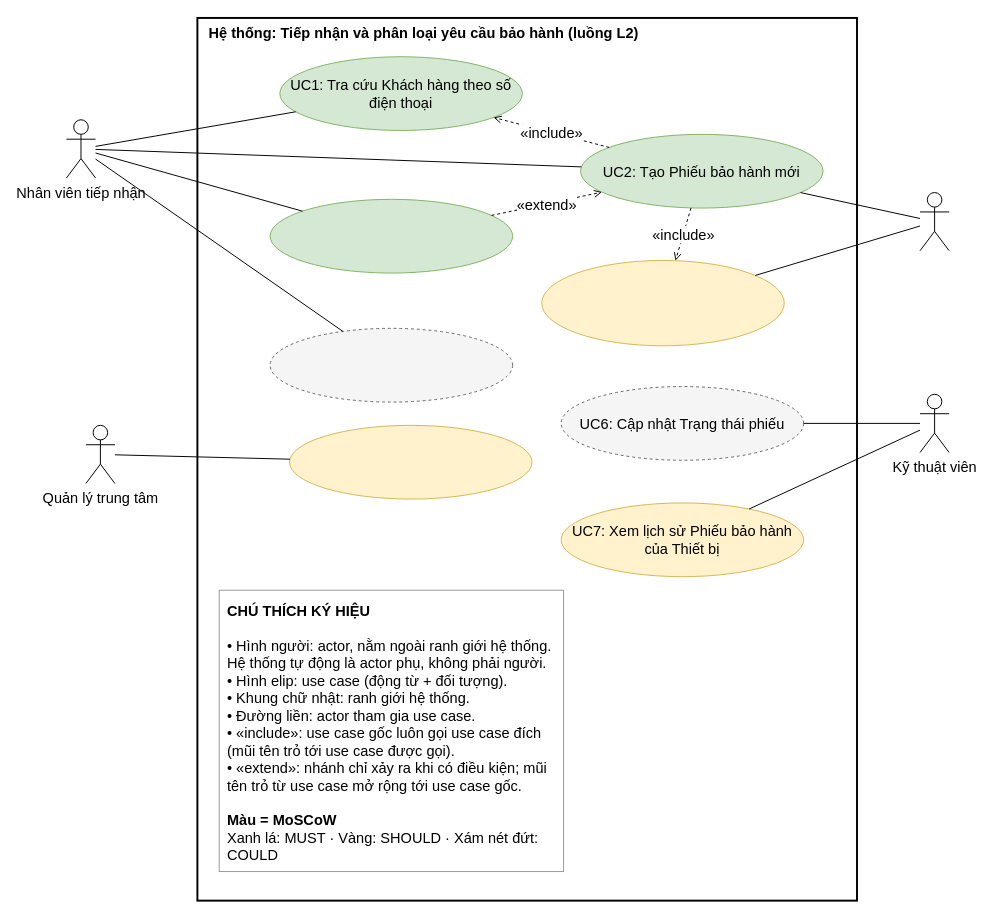
Some shapes in this 1008 by 918 pixel diagram are drawn without their labels. Each missing label, with the centre of its shape:
UC3: Tạo Khách hàng mới khi chưa tồn tại: (391,235)
UC4: Phân loại Nhóm sự cố và Mức ưu tiên: (662,302)
UC5: Xem danh sách Phiếu bảo hành theo Hạn cam kết: (410,461)
UC8: Ghi nhận trao đổi với Khách hàng trên Phiếu bảo hành: (391,364)
«system» Hệ thống tự động: (934,221)
